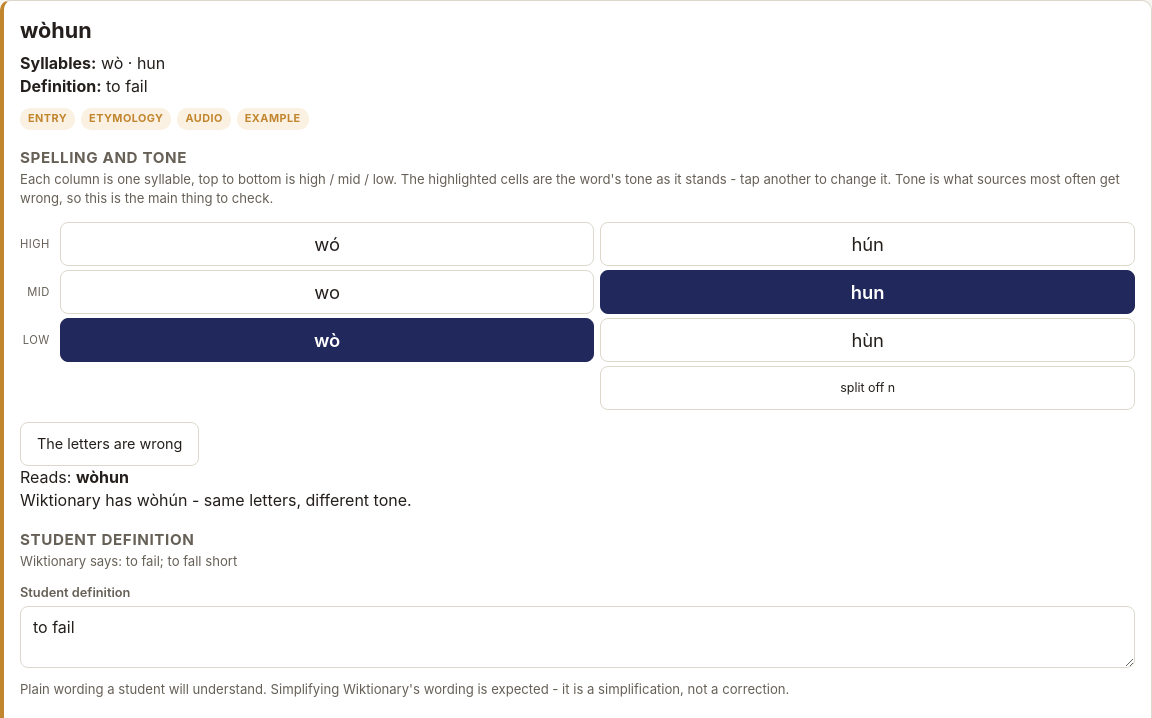
Test: the comparison line says WHICH kind of difference it is › updates live as the tone changes
The width and height of the screenshot is (1152, 718).
expect the element named "Tone editor" is shown: met, box [20,170,1135,466]
Note: wòhunpẹ̀ vs upstream wòhúnpẹ̀ - setting syllable 2 high makes them agree.
Step 1. Click the button with aria-label "Syllable 2 high tone" → (868, 244), box [600,222,1135,266]
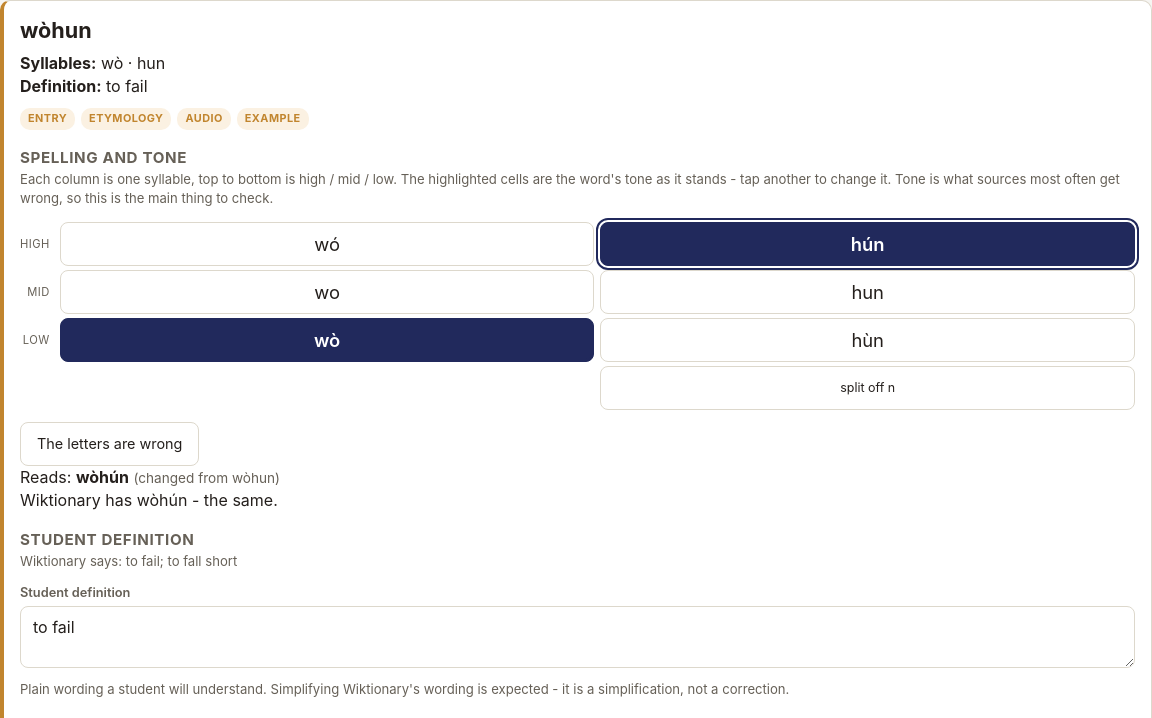
expect the element named "Spelling comparison" shows "the same.": met, box [20,490,278,510]
